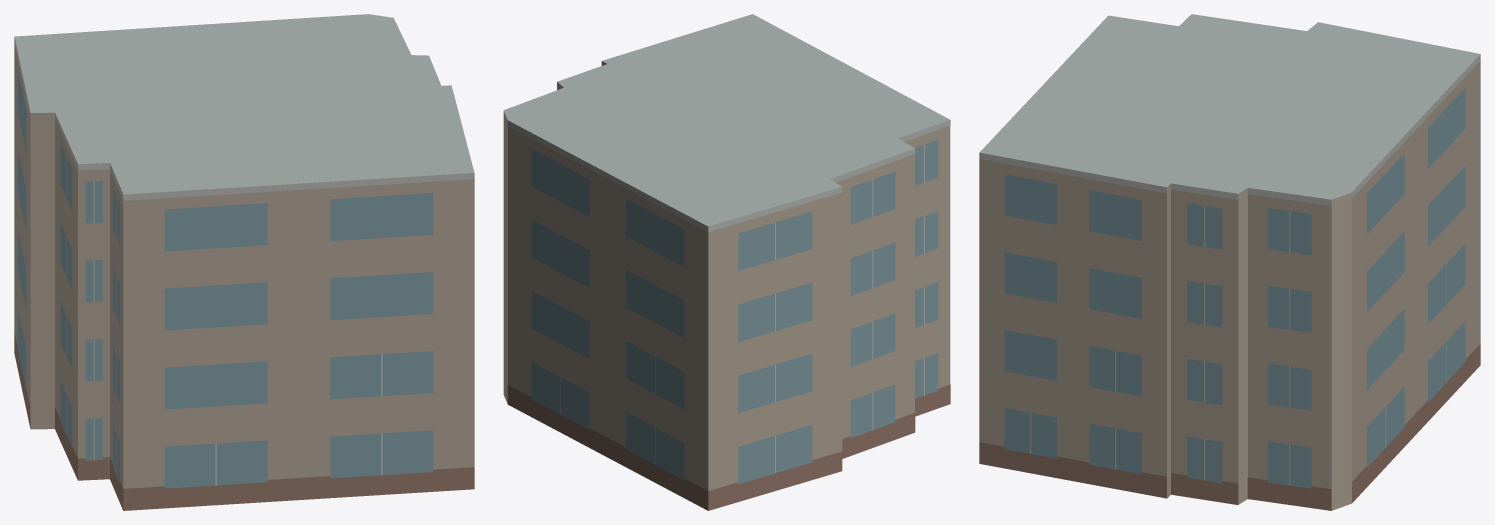
Rendered from survey-upis-32457782.glb.
The picture shows the model from 3 angles, left to right: view 1: azimuth 30°, elevation 25°; view 2: azimuth 150°, elevation 25°; view 3: azimuth 270°, elevation 25°; orthographic projection. The views are drawn at different scales.
Parts seen in each view (by area): view 1: survey-upis-32457782.tmp; view 2: survey-upis-32457782.tmp; view 3: survey-upis-32457782.tmp.
Boxes of the visible parts, x1,y1,x2,y2 form: survey-upis-32457782.tmp: [14, 14, 474, 510]; survey-upis-32457782.tmp: [503, 14, 950, 510]; survey-upis-32457782.tmp: [979, 14, 1480, 510].
Bounding box in the file's own units: 15.62 × 12.2 × 17.82.
